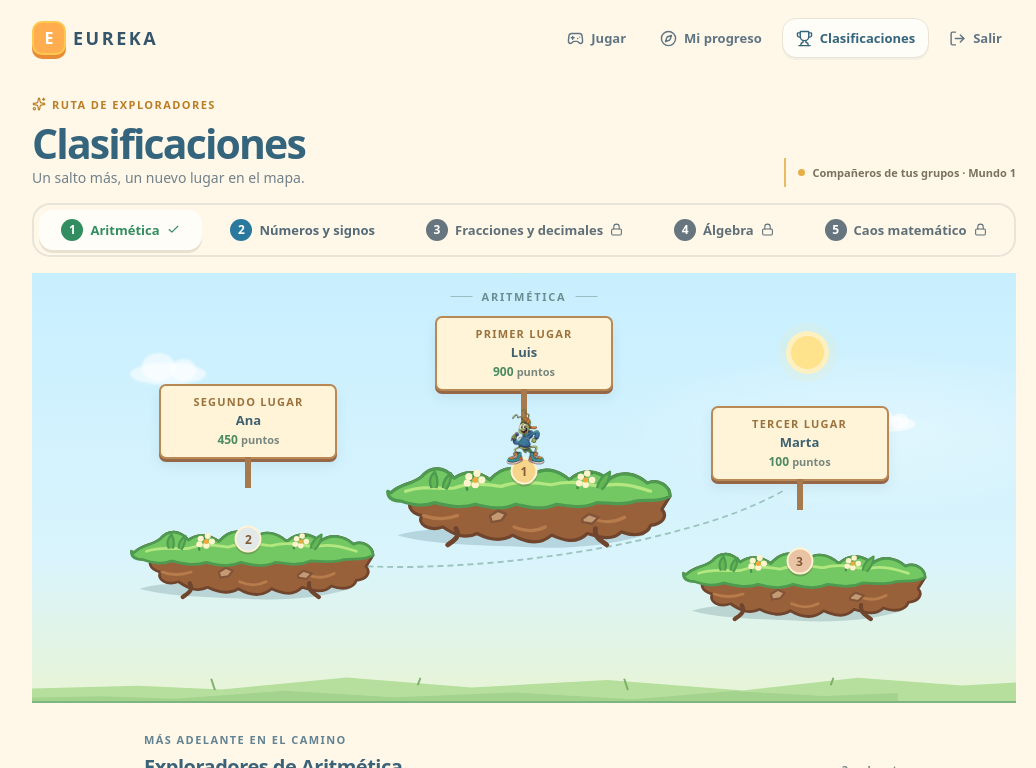
Test: clasificaciones › cambia de mundo con las pestañas y pide la clasificación de ese mundo
Expected: the text "Compañeros de tus grupos · Mundo 1" is shown, [784,158,1016,187]
Click the link "2 Números y signos" at (303, 233), box [230,219,375,248]
(page scrolled)
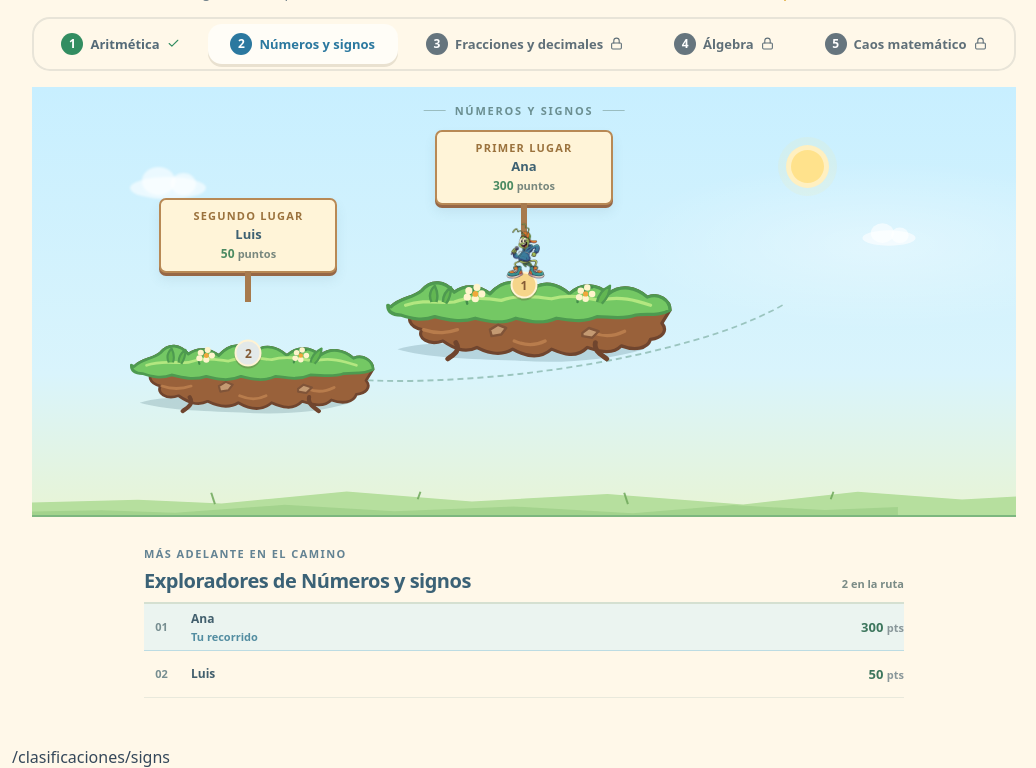
Expected: the text with test id "location" reads "/clasificaciones/signs", [12,746,170,767]
Expected: the heading "Exploradores de Números y signos" is shown, [144,567,471,594]
Expected: the text "2 en la ruta" is shown, [842,576,904,594]
